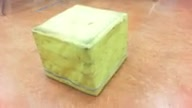cube: (31, 3, 128, 96)
